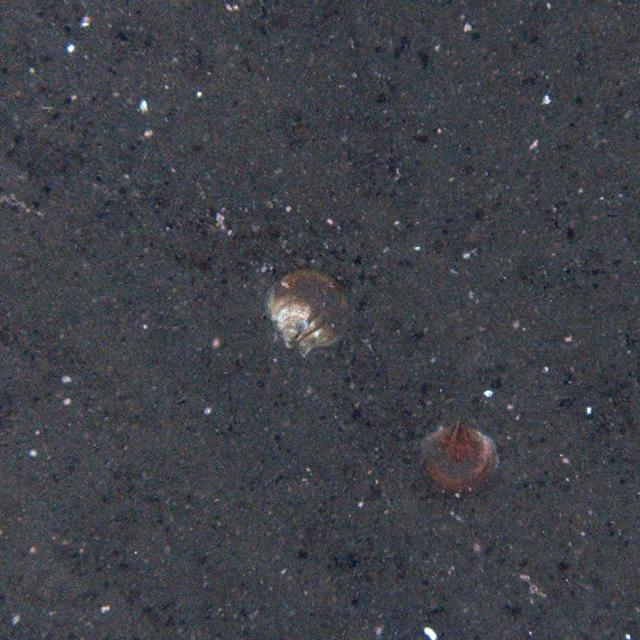scallop: (413, 417, 502, 497)
